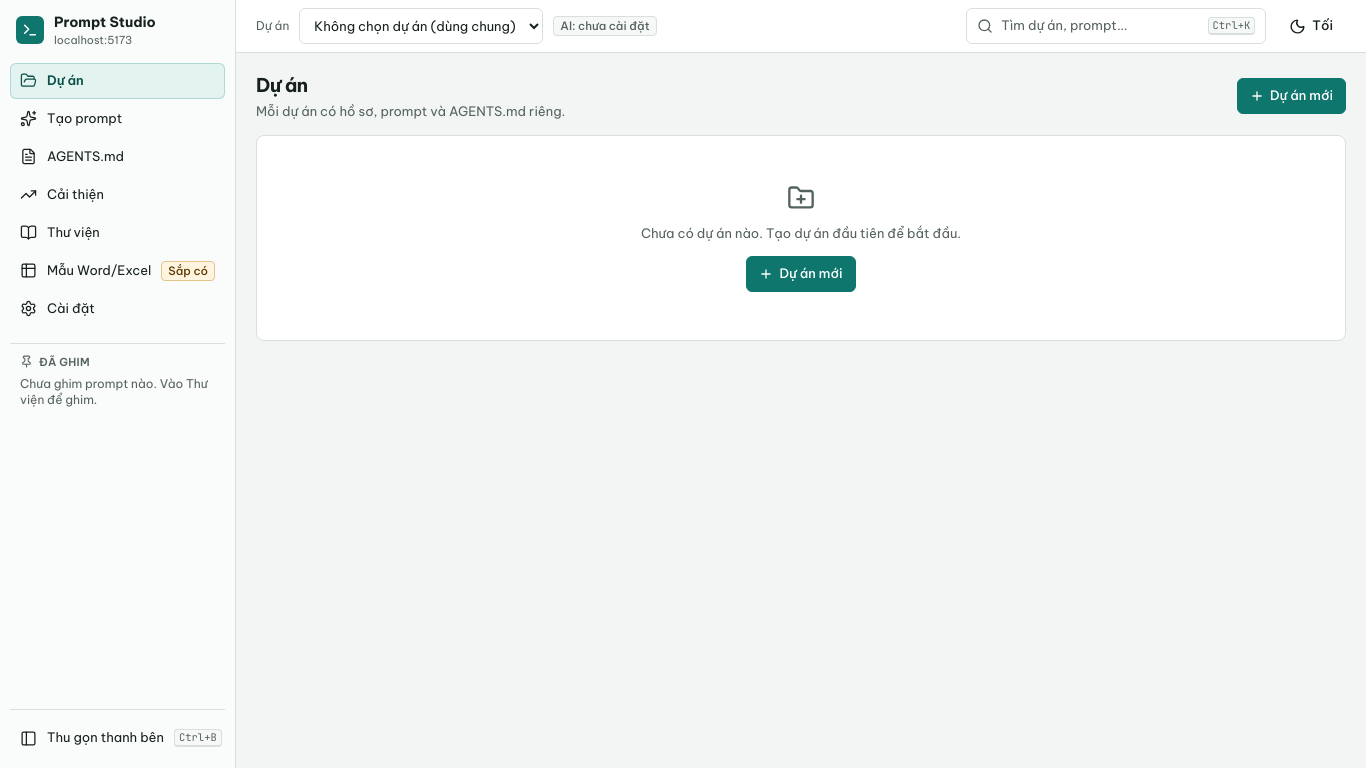
Test case: Tìm nhanh (Ctrl+K) › Ctrl+K mở hộp, gõ không dấu tìm loại prompt, Enter để mở bảng nhập
The image size is (1366, 768).
Later steps or results of the test are not shown.
Expected: the heading "Dự án" is shown, [256,73,308,97]
Type keys "{Control>}k{/Control}"
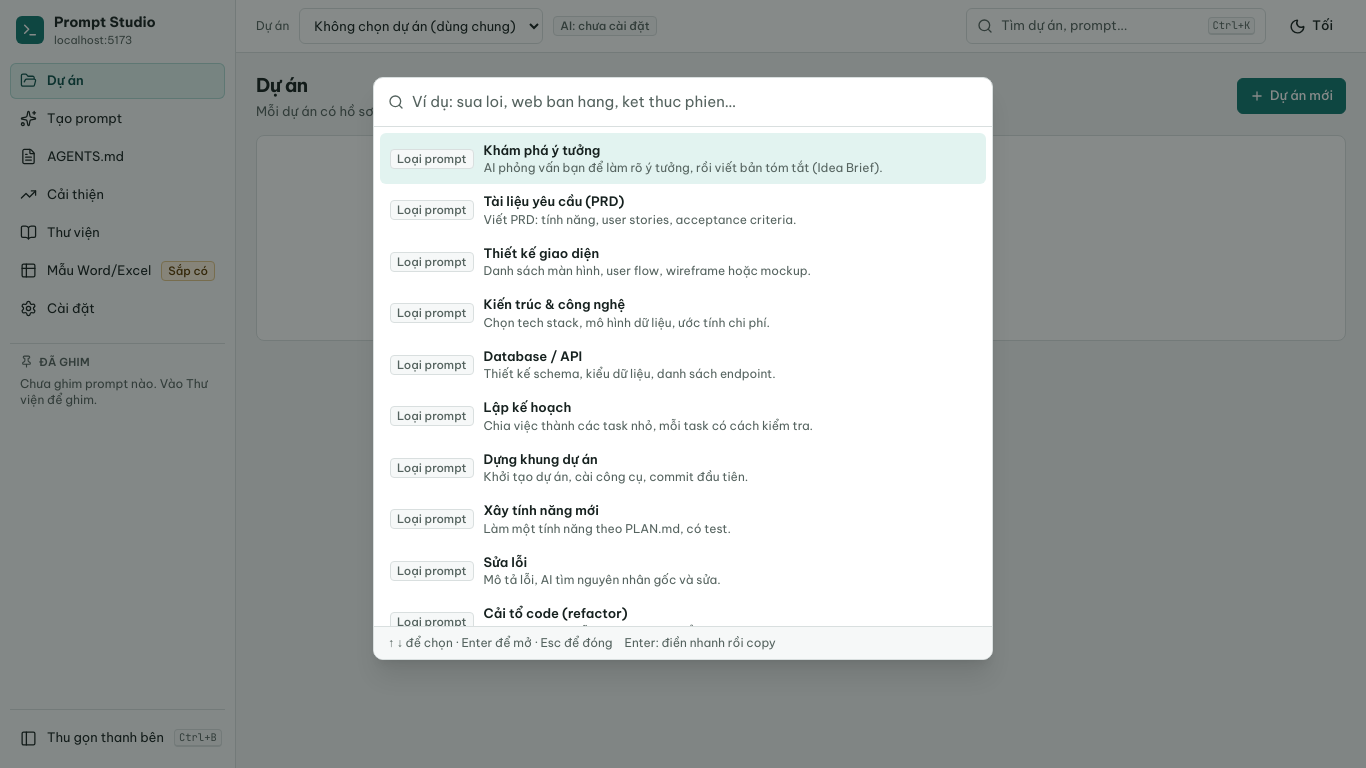
Type "sua loi" into the dropdown named "Từ khóa tìm kiếm" at coordinates (695, 102), box [412,78,978,126]
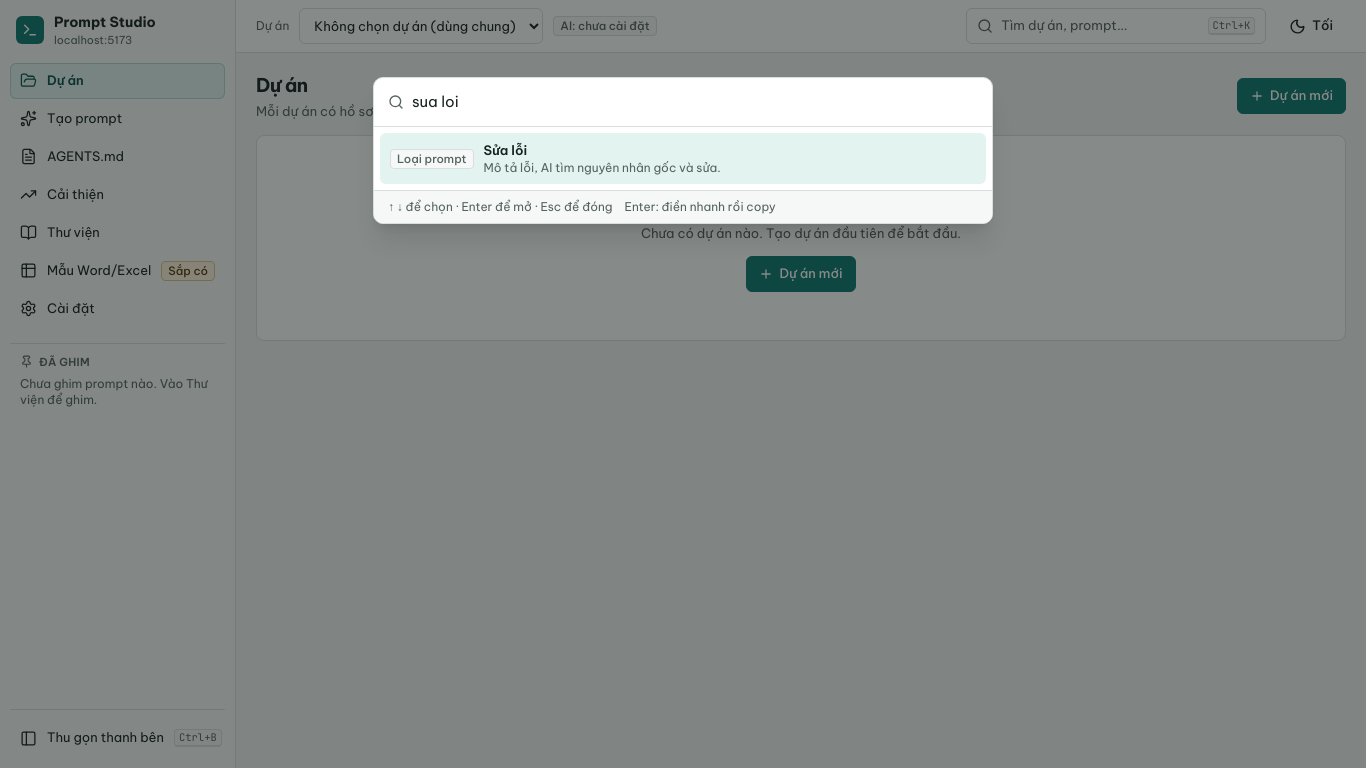
Result: the option shows "Sửa lỗi" at [380,133,986,184]
